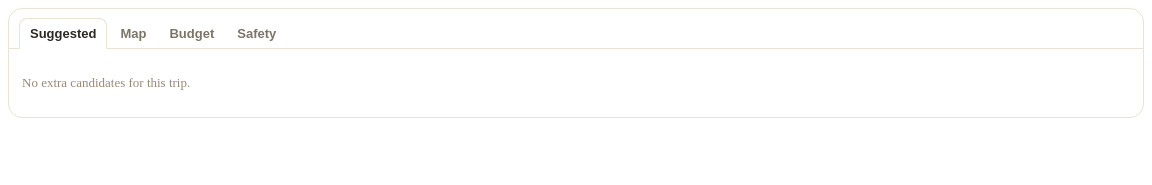
it: Safety tab renders planning_note (guide-recommendation text) › an L3 leg with a planning_note renders the note visibly
Step 1. Click the button "Safety" → (257, 33), box [227, 18, 286, 48]
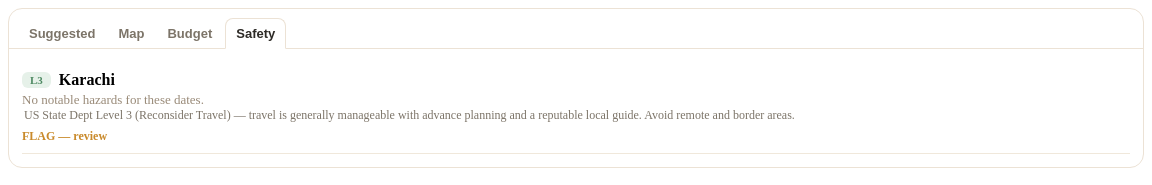
Expected: the element with test id "tab-safety" is shown
